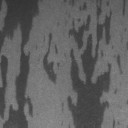red iron: (61, 0, 126, 128), (0, 0, 60, 128), (56, 21, 60, 27), (124, 26, 128, 32), (126, 41, 128, 50), (126, 98, 128, 106)
